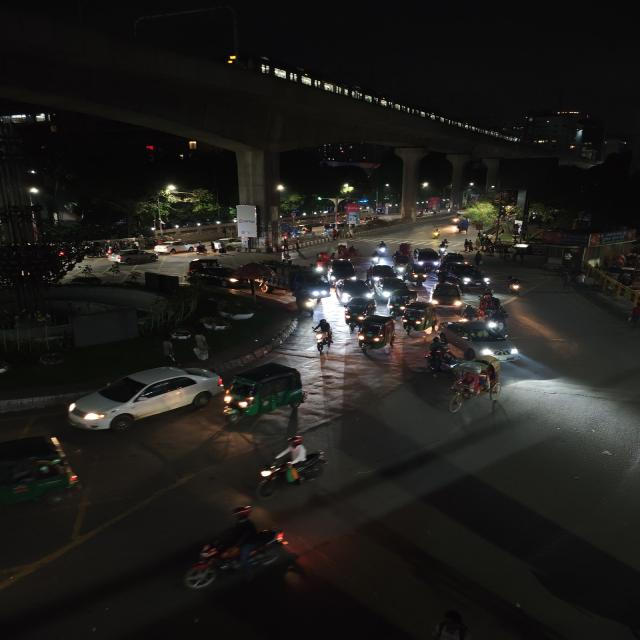car: (61, 362, 226, 434), (438, 320, 522, 362), (184, 260, 246, 288), (440, 261, 491, 289), (105, 245, 162, 267), (429, 281, 465, 311), (335, 278, 375, 304), (375, 276, 407, 300), (327, 260, 358, 284), (412, 246, 441, 271), (154, 239, 191, 255), (368, 265, 396, 282)
cng: (0, 433, 87, 513), (222, 361, 308, 423), (355, 314, 398, 355), (401, 302, 437, 338), (430, 283, 466, 311), (409, 248, 438, 280), (342, 297, 375, 323), (406, 262, 427, 286)
motorcycle: (179, 504, 296, 598), (254, 434, 330, 496), (422, 338, 459, 378), (310, 318, 335, 357), (484, 307, 511, 331), (504, 274, 525, 297), (372, 240, 391, 260), (437, 238, 453, 254), (192, 243, 210, 257), (428, 226, 443, 239)
pedestrian: (472, 250, 483, 267), (283, 239, 291, 255), (293, 238, 301, 254), (463, 238, 470, 252)
pickup_van: (268, 264, 332, 303)
rickshaw: (444, 356, 507, 412), (336, 244, 364, 260)
